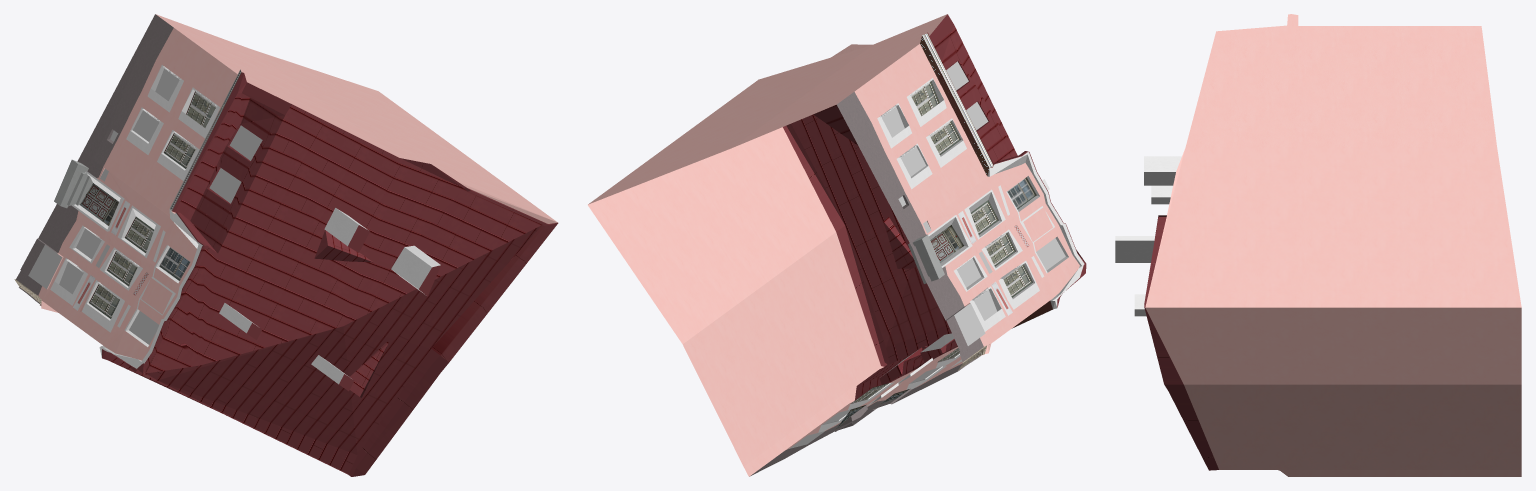
File: Pikk_50-origo.obj
The picture shows the model from 3 angles, left to right: view 1: azimuth 30°, elevation 25°; view 2: azimuth 150°, elevation 25°; view 3: azimuth 270°, elevation 25°; orthographic projection. The views are drawn at different scales.
Parts seen in each view (by area): view 1: Pikk_50; view 2: Pikk_50; view 3: Pikk_50.
Boxes of the visible parts, bbox=[...] form: Pikk_50: bbox=[14, 14, 558, 476]; Pikk_50: bbox=[588, 14, 1086, 476]; Pikk_50: bbox=[1115, 14, 1521, 476].
Bounding box in the file's own units: 21.44 × 21.5 × 18.7.
